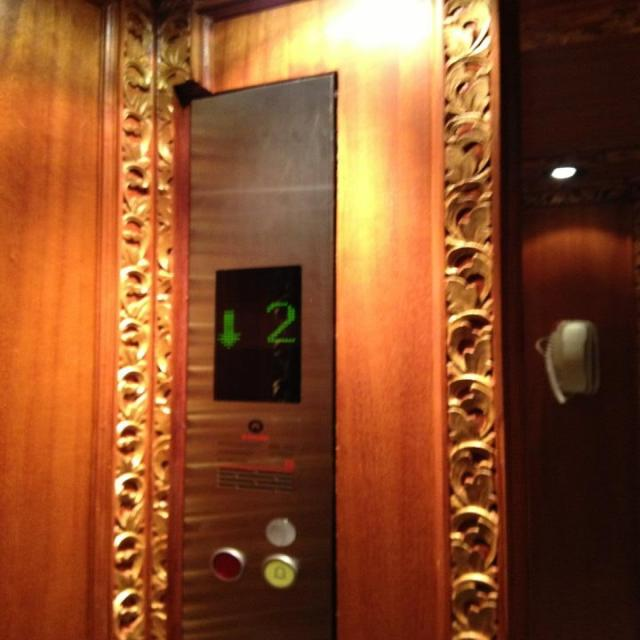alarm: (260, 552, 298, 588)
empty: (208, 547, 244, 582), (262, 516, 297, 547)
led: (210, 263, 306, 406)
